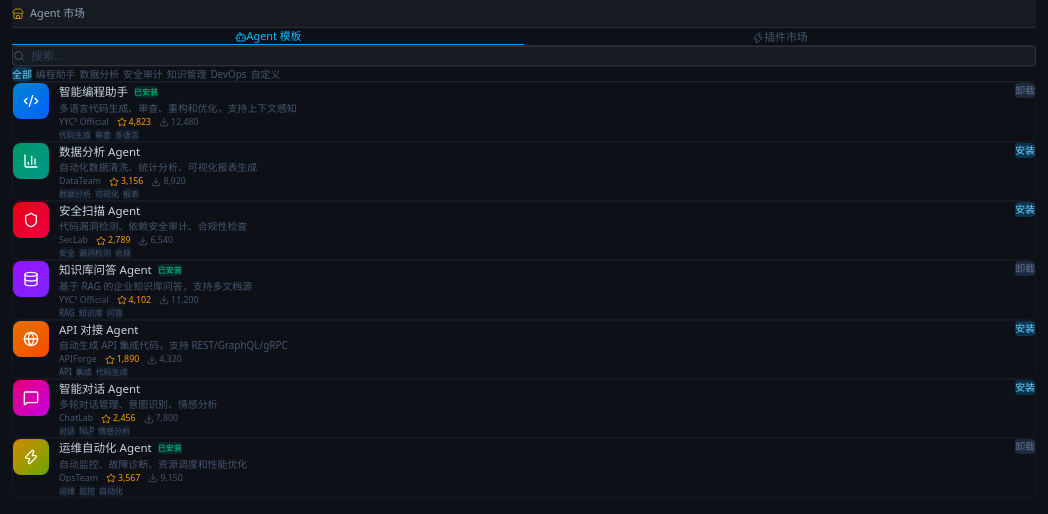
Test: AgentMarket › Tab 切换到插件市场并展示插件列表
The image size is (1048, 514).
Click the button "插件市场". click: (780, 37)
box: 524,28 -> 1036,45
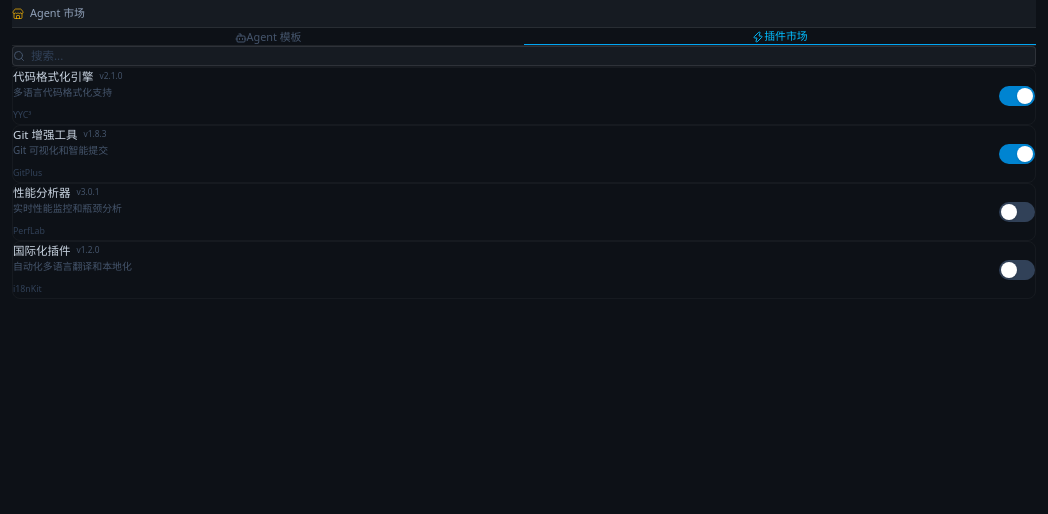
Check: the text "代码格式化引擎" is shown, box 13,68 -> 94,85
Check: the text "Git 增强工具" is shown, box 13,126 -> 78,143
